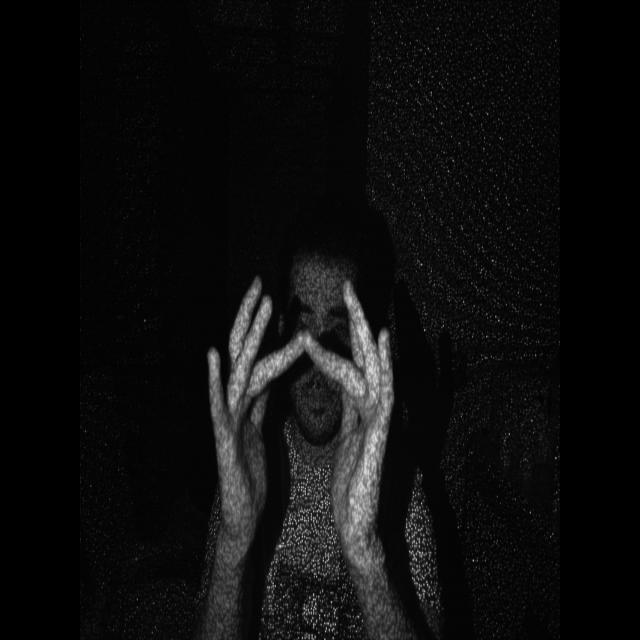REACH: (188, 237, 412, 604)
